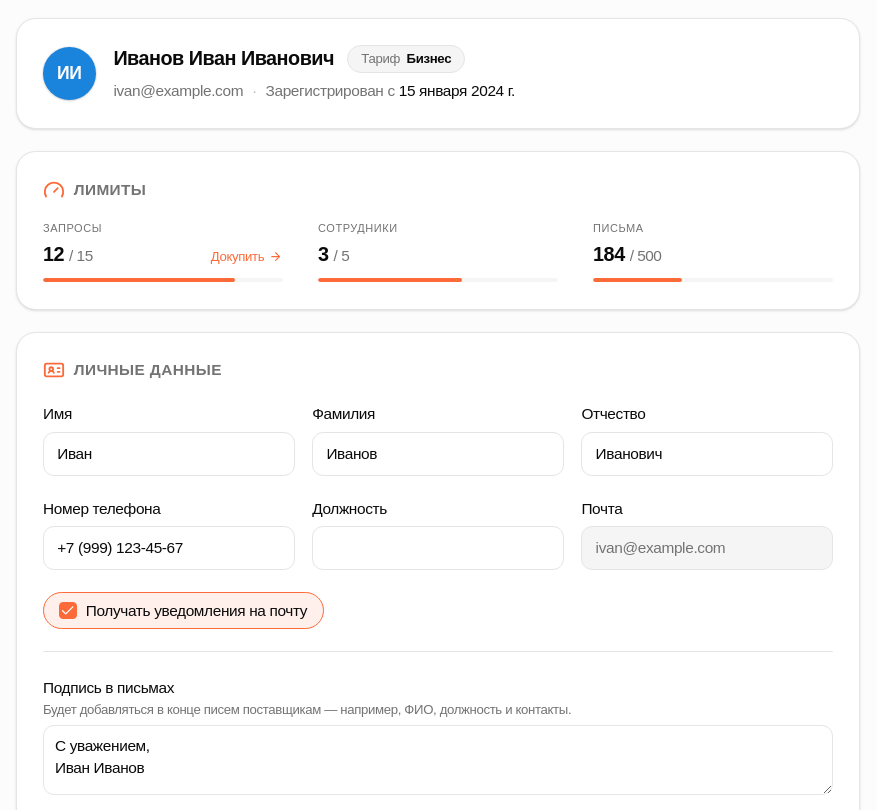
Test: ProfileSettingsPage › phone input masks +7 formatting and validates a partial number
Step 1. Replace the text in the field labelled "Номер телефона" with "123" → {"x": 169, "y": 548}, box x1=43 y1=526 x2=295 y2=570
(page scrolled)
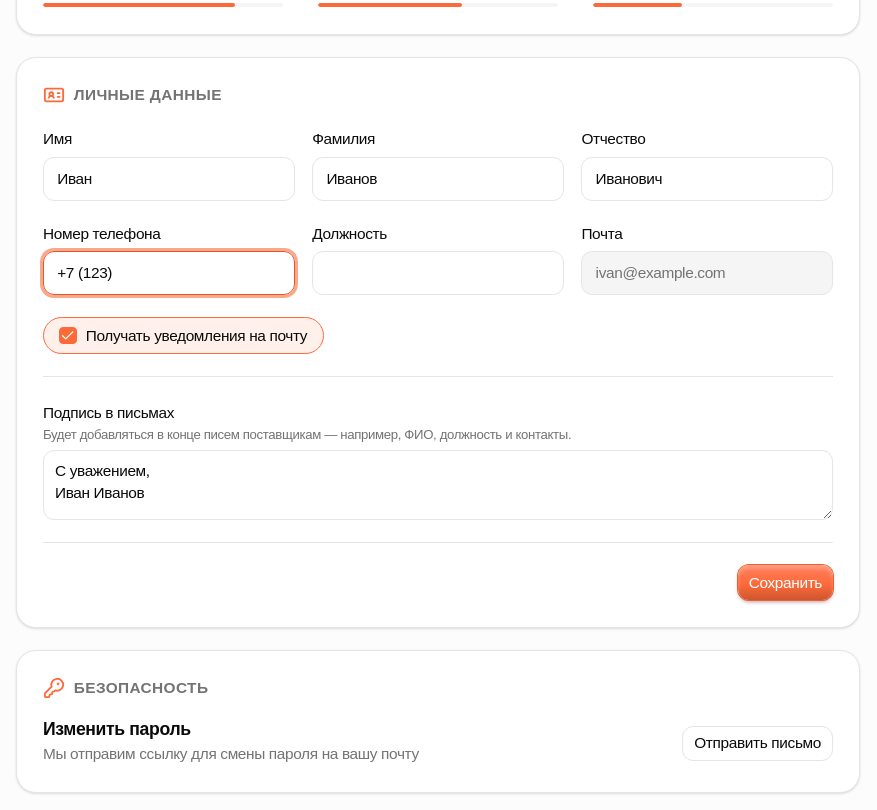
Expected: the field labelled "Номер телефона" holds "+7 (123)", x1=43 y1=251 x2=295 y2=295
Step 2. Click the button "Сохранить" → {"x": 785, "y": 583}, box x1=738 y1=565 x2=833 y2=600
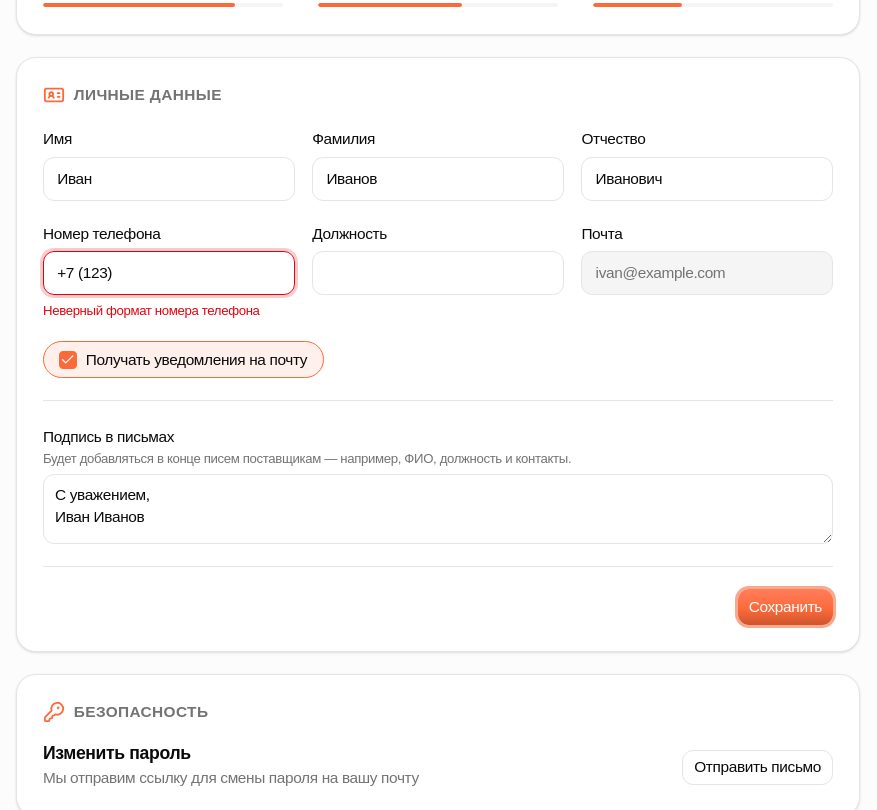
Expected: the text "Неверный формат номера телефона" is shown, x1=43 y1=302 x2=295 y2=319
